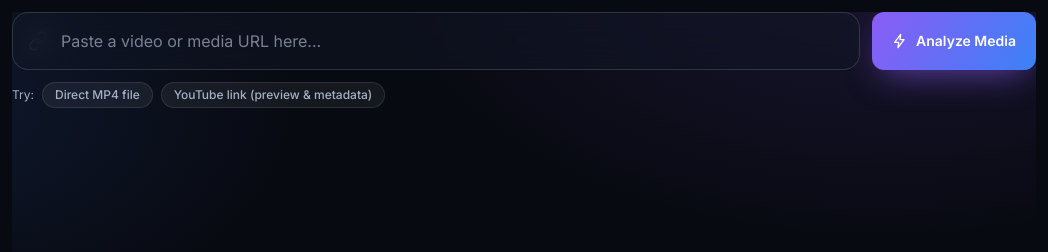
Test case: UrlAnalyzer › shows the analyzing state while the request is pending
The width and height of the screenshot is (1048, 252).
Type "https://cdn.example.com/video.mp4" into the field labelled "Paste a video or media URL here..." at (436, 41), box [12,12,860,70]
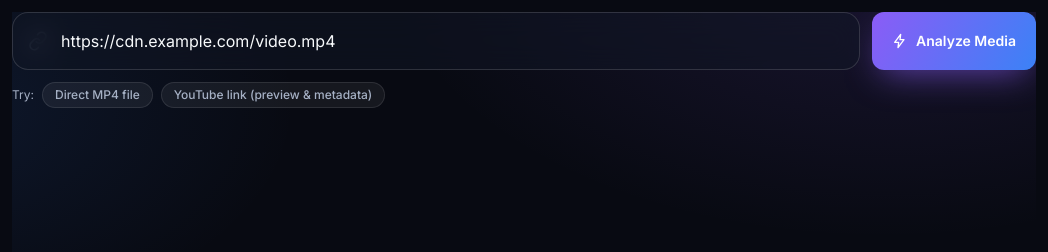
Submit the form named "media url", box [12,12,1036,70]
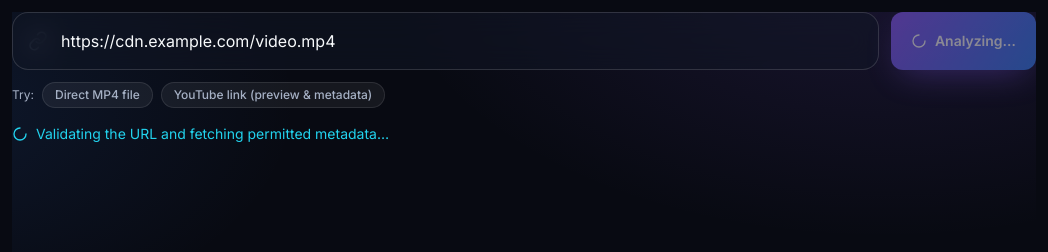
Expected: the text "Validating the URL and fetching permitted metadata…" is shown, [12,125,389,142]
Expected: the button "Analyzing…" is disabled, [891,12,1036,70]
